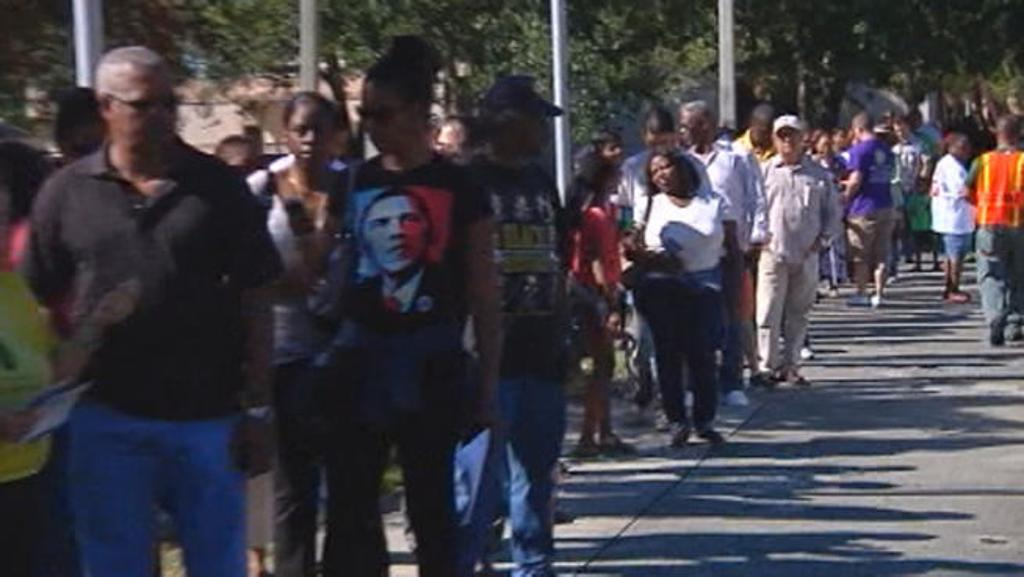face: (116, 66, 175, 151), (366, 198, 431, 273), (365, 86, 407, 152), (291, 105, 332, 164), (434, 124, 466, 174), (521, 108, 551, 154), (233, 153, 261, 195), (645, 131, 673, 161), (654, 158, 678, 192), (778, 124, 801, 155), (679, 111, 699, 145), (754, 114, 772, 144), (605, 142, 623, 166), (837, 130, 847, 149), (961, 137, 970, 157), (917, 181, 929, 194), (897, 126, 908, 139)
